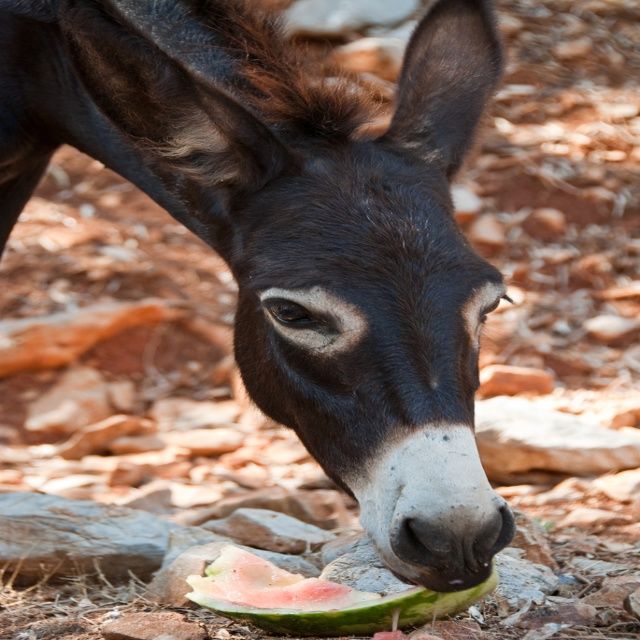Mule: (0, 0, 517, 590)
